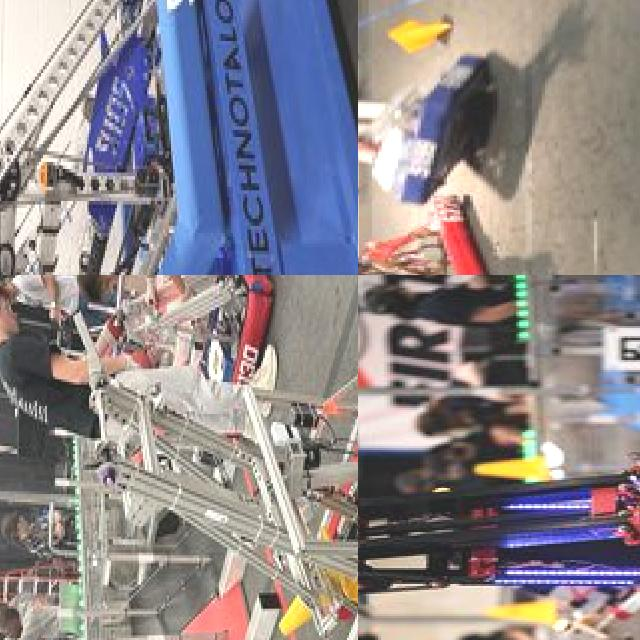FRC-Robots: (66, 283, 358, 640), (359, 305, 640, 640), (0, 0, 207, 275), (358, 73, 541, 193), (358, 199, 492, 275)
